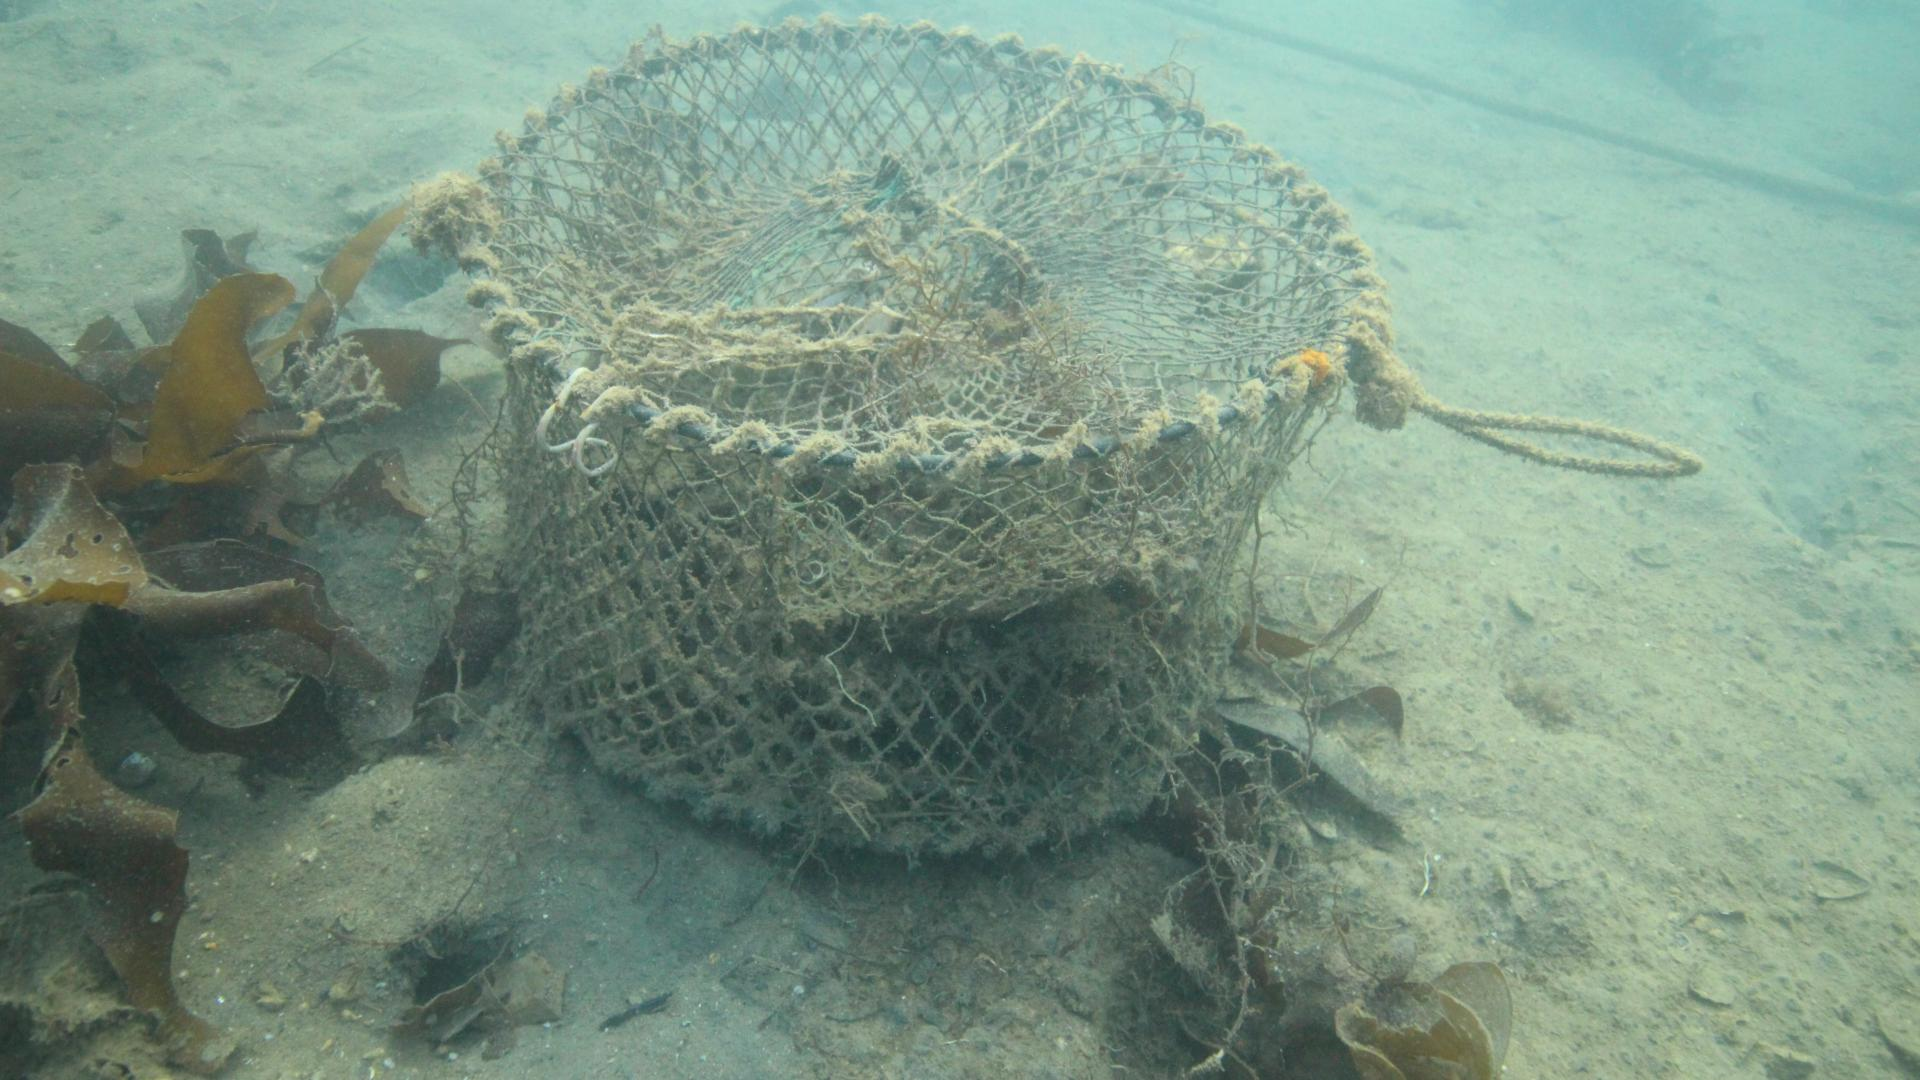circular fish trap: (450, 15, 1383, 851)
rope: (1393, 376, 1704, 483)
